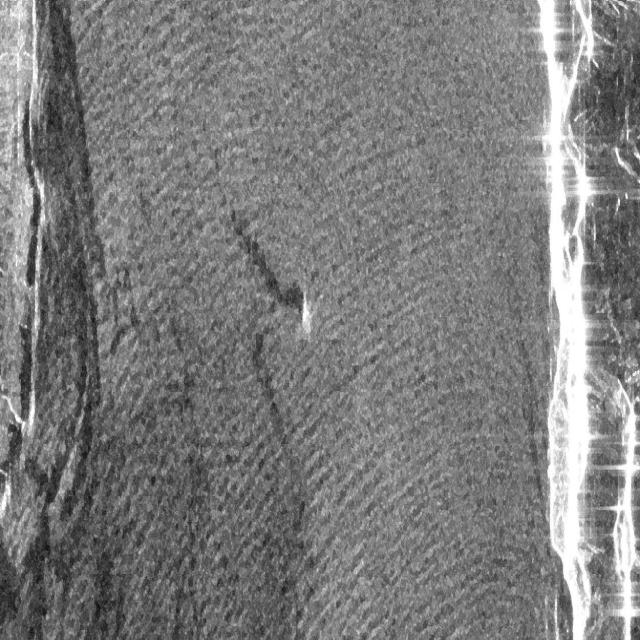oil-spill: (224, 198, 303, 319)
ship: (298, 294, 314, 341)
